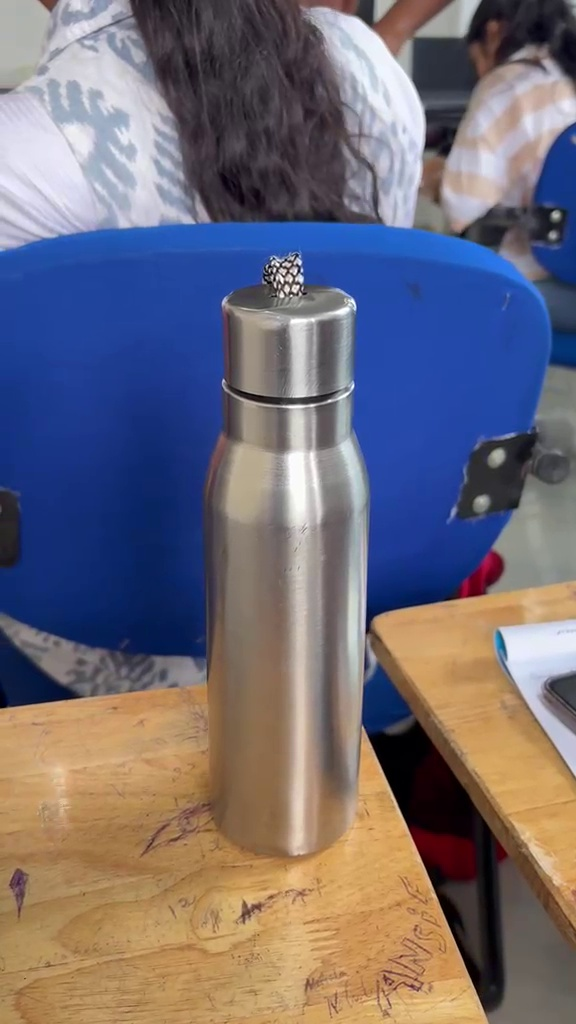Bottle: (208, 258, 382, 867)
